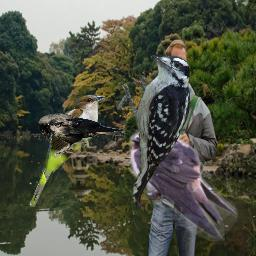Crow: (38, 113, 126, 157)
Cuckoo: (29, 94, 105, 207)
Swallow: (128, 125, 238, 241)
Woodpecker: (117, 52, 200, 207)
